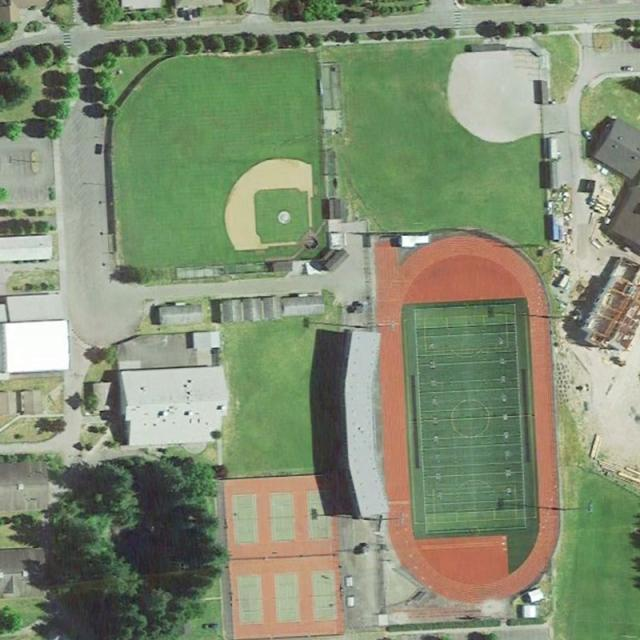vehicle: (622, 66, 633, 72)
